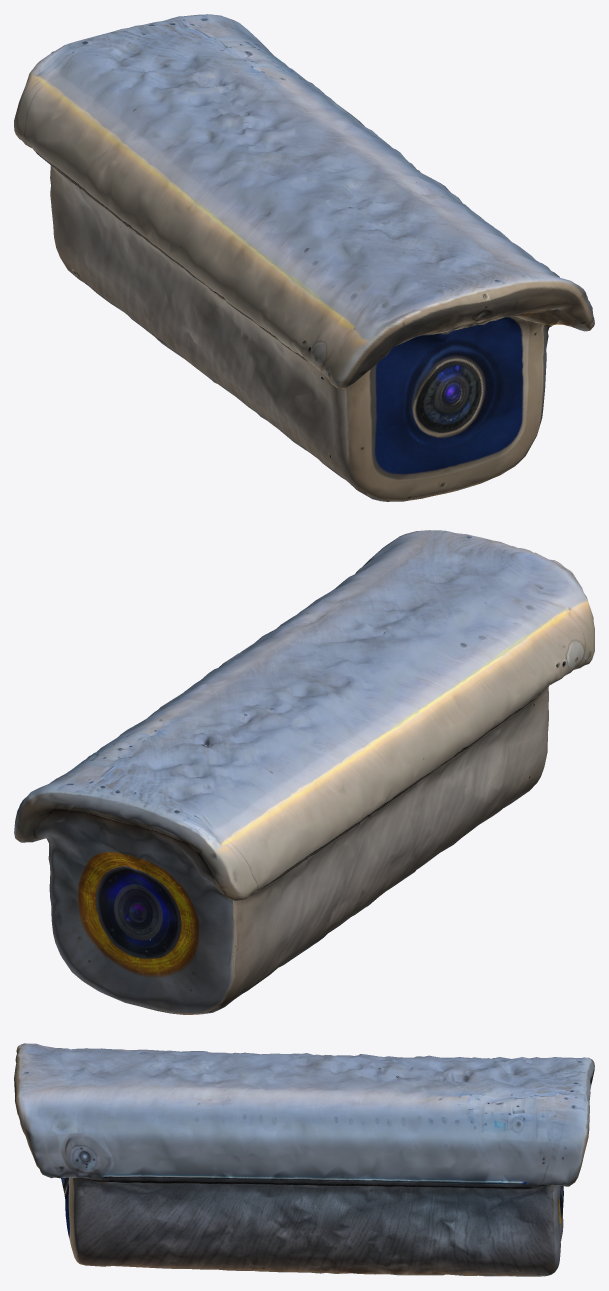
File: 571e6cfd-c87c-4799-b0c5-2fc46aacda56.glb
3 views of the same model, one above another, from view 1: azimuth 30°, elevation 25°; view 2: azimuth 150°, elevation 25°; view 3: azimuth 270°, elevation 25° (orthographic). The views are drawn at different scales.
Bounding box in the file's own units: 0.5031 × 0.4378 × 1.2.
Materials: 1 (1 with a texture image).
